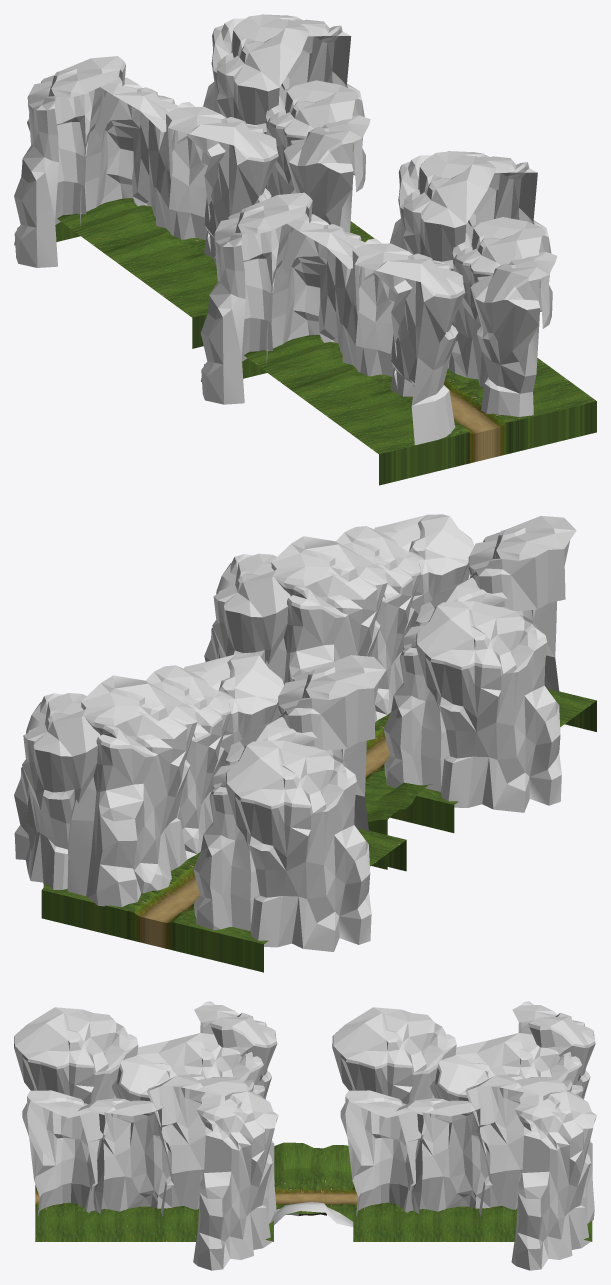
3 views of the same model, one above another, from view 1: azimuth 30°, elevation 25°; view 2: azimuth 150°, elevation 25°; view 3: azimuth 270°, elevation 25° (orthographic). The views are drawn at different scales.
Visible parts, largest first — view 1: straight2, straight1; view 2: straight1, straight2, straight; view 3: straight1, straight2, straight.
Part boxes in pixels (box(x1,y1,x2,y2)): straight2: box(200, 151, 596, 485); straight1: box(14, 14, 374, 348); straight1: box(14, 653, 406, 972); straight2: box(204, 514, 596, 832); straight: box(365, 782, 432, 869); straight1: box(332, 1001, 596, 1270); straight2: box(14, 1001, 278, 1270); straight: box(274, 1142, 353, 1226).
Size of the model in its own units: 77018 by 44489 by 131869.
